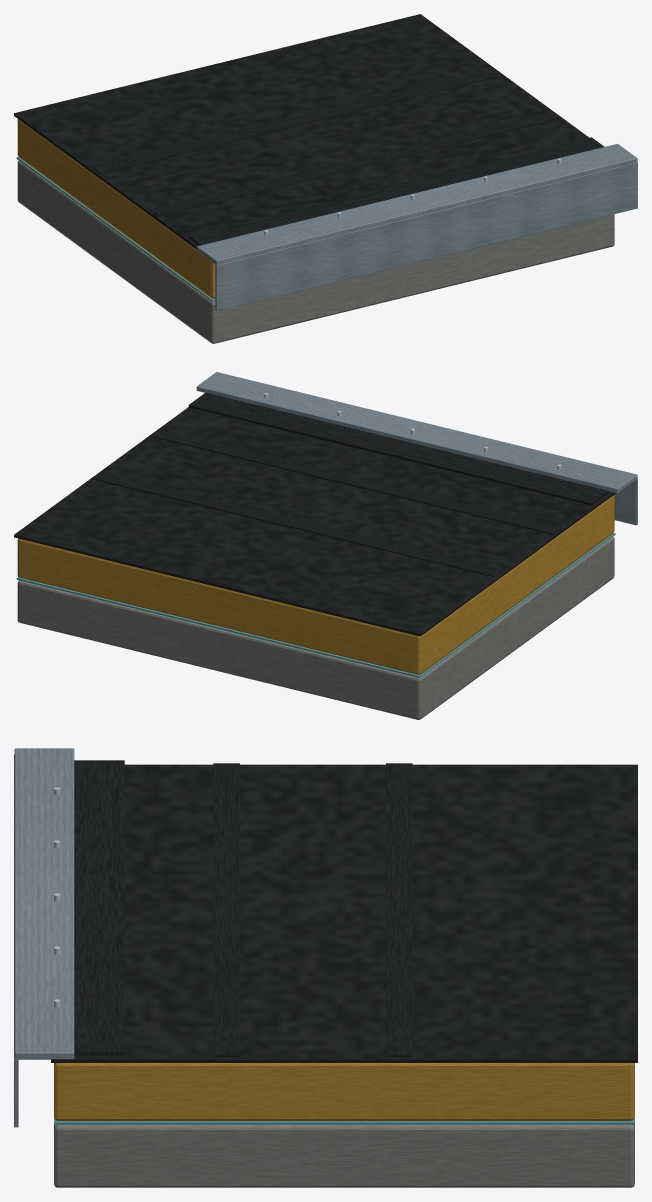
Rendered from modell.glb.
3 renders of one model, top to bottom at view 1: azimuth 30°, elevation 25°; view 2: azimuth 150°, elevation 25°; view 3: azimuth 270°, elevation 25°, orthographic. The views are drawn at different scales.
Visible parts, largest first — view 1: f06-abdichtung_deckung, f06-randprofil_, f06-untergrund_tragwerk, f06-naht_deckung, f06-daemmung_daemmung, f06-abdichtung_deckung.001, f06-luftdichtheit_luftdichtheit; view 2: f06-abdichtung_deckung, f06-untergrund_tragwerk, f06-daemmung_daemmung, f06-randprofil_, f06-naht_deckung, f06-abdichtung_deckung.001, f06-luftdichtheit_luftdichtheit; view 3: f06-abdichtung_deckung, f06-untergrund_tragwerk, f06-daemmung_daemmung, f06-randprofil_, f06-naht_deckung, f06-abdichtung_deckung.001, f06-luftdichtheit_luftdichtheit.
Boxes of the visible parts, left/top/right/bottom form: f06-abdichtung_deckung: left=14, top=14, right=589, bottom=249; f06-randprofil_: left=196, top=144, right=637, bottom=310; f06-untergrund_tragwerk: left=17, top=160, right=614, bottom=343; f06-naht_deckung: left=91, top=68, right=561, bottom=216; f06-daemmung_daemmung: left=17, top=119, right=215, bottom=298; f06-abdichtung_deckung.001: left=188, top=137, right=604, bottom=245; f06-luftdichtheit_luftdichtheit: left=16, top=157, right=215, bottom=301; f06-abdichtung_deckung: left=14, top=407, right=615, bottom=636; f06-untergrund_tragwerk: left=17, top=536, right=614, bottom=719; f06-daemmung_daemmung: left=17, top=495, right=614, bottom=674; f06-randprofil_: left=196, top=372, right=637, bottom=525; f06-naht_deckung: left=91, top=429, right=561, bottom=577; f06-abdichtung_deckung.001: left=188, top=392, right=610, bottom=505; f06-luftdichtheit_luftdichtheit: left=16, top=533, right=615, bottom=677; f06-abdichtung_deckung: left=51, top=764, right=637, bottom=1062; f06-untergrund_tragwerk: left=54, top=1125, right=634, bottom=1187; f06-daemmung_daemmung: left=54, top=1063, right=634, bottom=1120; f06-randprofil_: left=14, top=748, right=74, bottom=1127; f06-naht_deckung: left=213, top=763, right=412, bottom=1056; f06-abdichtung_deckung.001: left=74, top=760, right=124, bottom=1055; f06-luftdichtheit_luftdichtheit: left=54, top=1117, right=634, bottom=1124.
Size of the model in its own units: 2.3 by 0.5225 by 1.99.
Materials: 6 (4 with a texture image).
